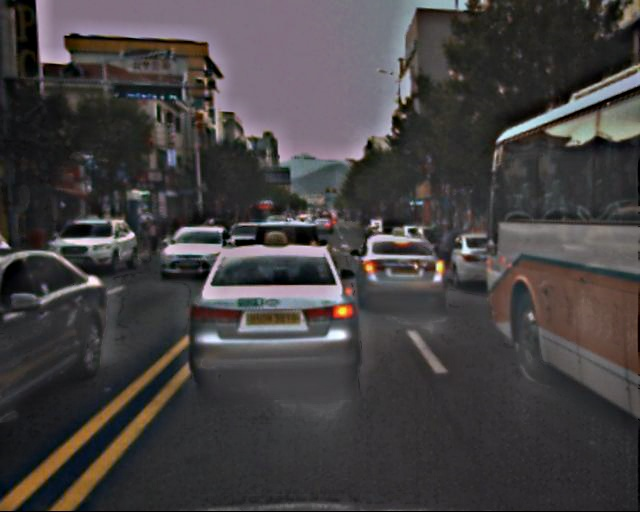person: (438, 222, 464, 296)
